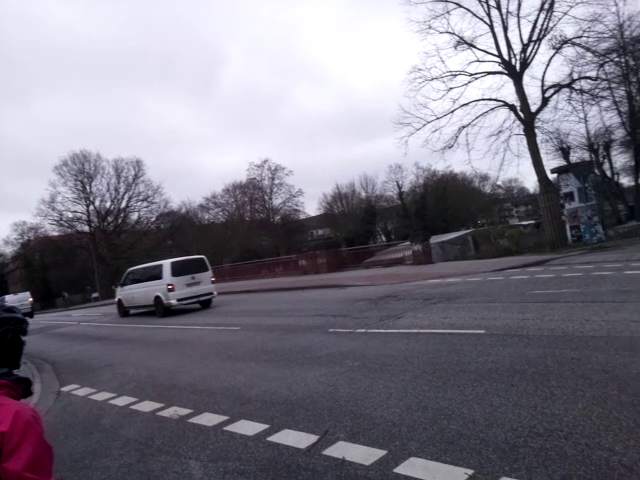car: (111, 251, 220, 323)
